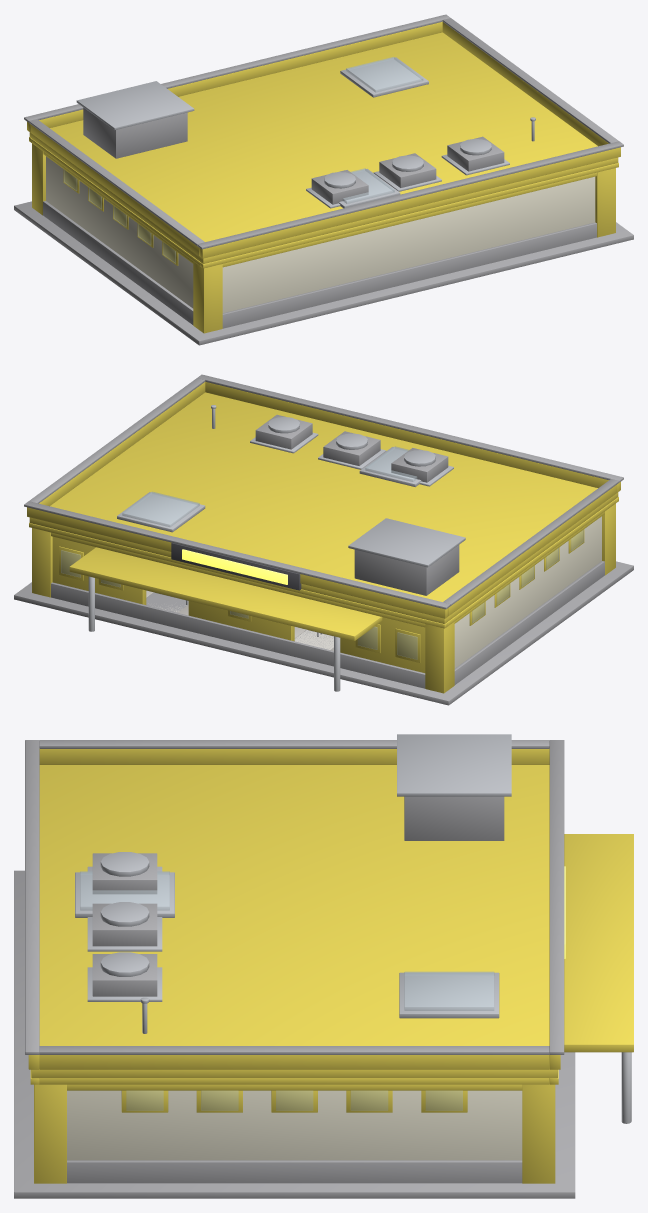
File: th23_post.glb
3 renders of one model, top to bottom at view 1: azimuth 30°, elevation 25°; view 2: azimuth 150°, elevation 25°; view 3: azimuth 270°, elevation 25°, orthographic. The views are drawn at different scales.
Parts seen in each view (by area): view 1: Cube.045, Cube.042, Cube, Cube.050, Cube.043, Cube.062, Cube.063, Cube.504, Cube.503, Cube.066, Cube.052, Cube.067 (+18 smaller); view 2: Cube.045, Cube.107, Cube, Cube.051, Cube.043, Cube.062, Cube.504, Cube.503, Cube.067, Cube.066, Cube.063, Cube.052 (+28 smaller); view 3: Cube.045, Cube.044, Cube, Cube.107, Cube.053, Cube.065, Cube.504, Cube.064, Cube.067, Cube.066, Cube.511, Cube.069 (+28 smaller).
Boxes of the visible parts, <box> form: Cube.045: <box>29,32,618,263</box>; Cube.042: <box>222,176,595,312</box>; Cube: <box>14,201,633,345</box>; Cube.050: <box>222,222,596,328</box>; Cube.043: <box>46,156,193,308</box>; Cube.062: <box>199,147,620,258</box>; Cube.063: <box>27,21,442,132</box>; Cube.504: <box>76,81,194,130</box>; Cube.503: <box>83,107,187,158</box>; Cube.066: <box>197,141,623,249</box>; Cube.052: <box>43,201,193,324</box>; Cube.067: <box>24,14,450,122</box>; Cube.045: <box>29,392,618,623</box>; Cube.107: <box>69,547,382,641</box>; Cube: <box>14,561,633,705</box>; Cube.051: <box>51,582,425,688</box>; Cube.043: <box>454,516,601,668</box>; Cube.062: <box>205,381,620,492</box>; Cube.504: <box>348,518,465,567</box>; Cube.503: <box>354,545,459,595</box>; Cube.067: <box>24,501,450,609</box>; Cube.066: <box>197,374,623,482</box>; Cube.063: <box>27,507,448,618</box>; Cube.052: <box>454,561,604,684</box>; Cube.045: <box>31,765,557,1078</box>; Cube.044: <box>67,1090,522,1160</box>; Cube: <box>14,870,575,1198</box>; Cube.107: <box>564,834,633,1052</box>; Cube.053: <box>67,1160,522,1183</box>; Cube.065: <box>39,1055,549,1069</box>; Cube.504: <box>397,734,511,796</box>; Cube.064: <box>39,749,549,764</box>; Cube.067: <box>549,740,564,1054</box>; Cube.066: <box>25,740,39,1054</box>; Cube.511: <box>399,972,499,1018</box>; Cube.069: <box>39,1046,549,1054</box>.
Size of the model in its own units: 30.5 by 7.7 by 24.85.
